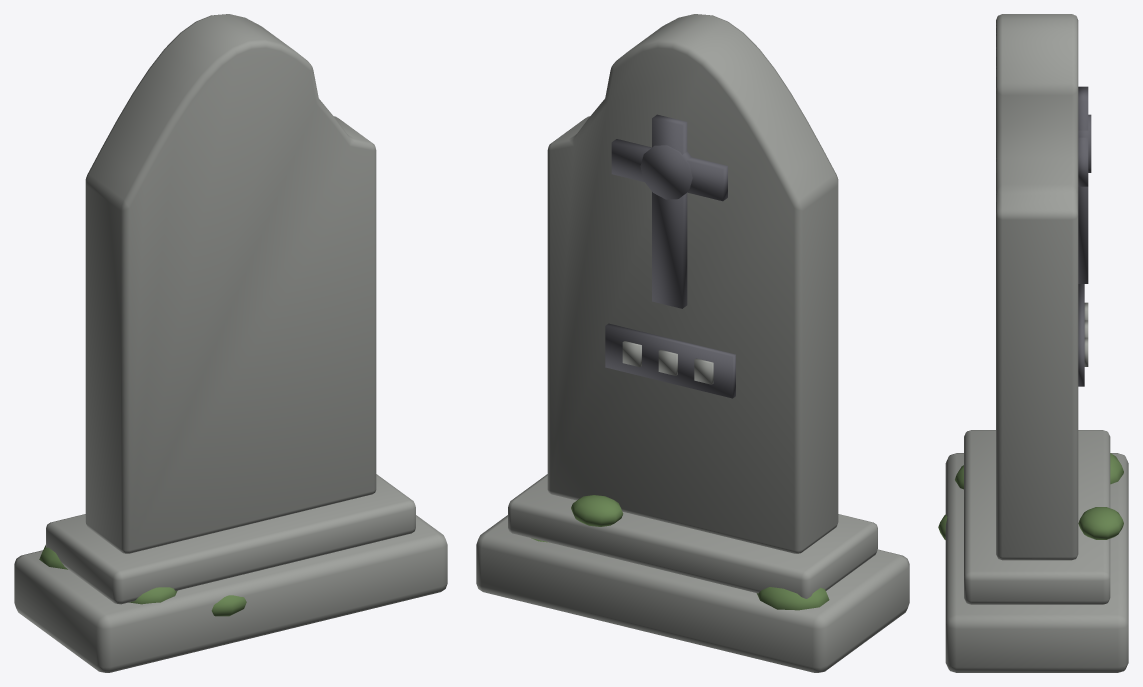
Rendered from Tombstone.glb.
3 views of the same model, side by side, from view 1: azimuth 30°, elevation 25°; view 2: azimuth 150°, elevation 25°; view 3: azimuth 270°, elevation 25° (orthographic).
Parts seen in each view (by area): view 1: Tombstone; view 2: Tombstone; view 3: Tombstone.
Part boxes in pixels (bbox=[...]): Tombstone: bbox=[14, 14, 447, 672]; Tombstone: bbox=[476, 14, 909, 672]; Tombstone: bbox=[938, 14, 1128, 672].
Bounding box in the file's own units: 0.44 × 0.69 × 0.208.
